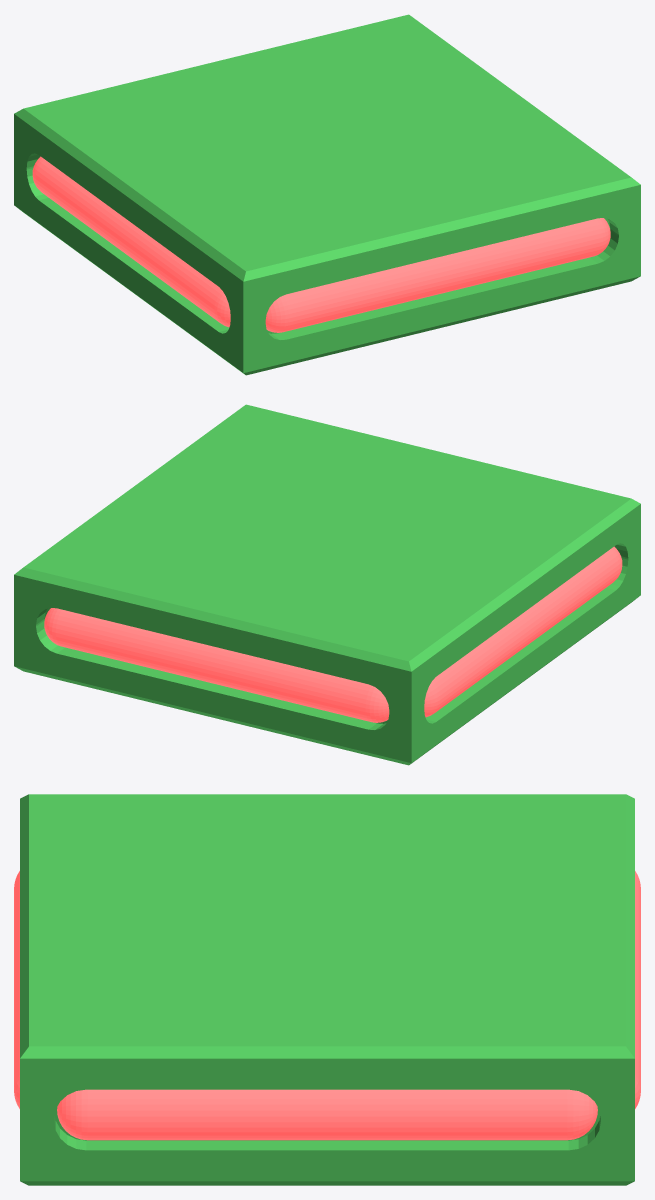
Rendered from Platform.fbx.
The picture shows the model from 3 angles, top to bottom: view 1: azimuth 30°, elevation 25°; view 2: azimuth 150°, elevation 25°; view 3: azimuth 270°, elevation 25°; orthographic projection. The views are drawn at different scales.
Parts seen in each view (by area): view 1: Cube; view 2: Cube; view 3: Cube.
Part boxes in pixels (box(x1,y1,x2,y2)): Cube: box(14, 14, 640, 375); Cube: box(14, 404, 640, 765); Cube: box(14, 794, 640, 1185).
Bounding box in the file's own units: 40.76 × 10 × 40.76.
